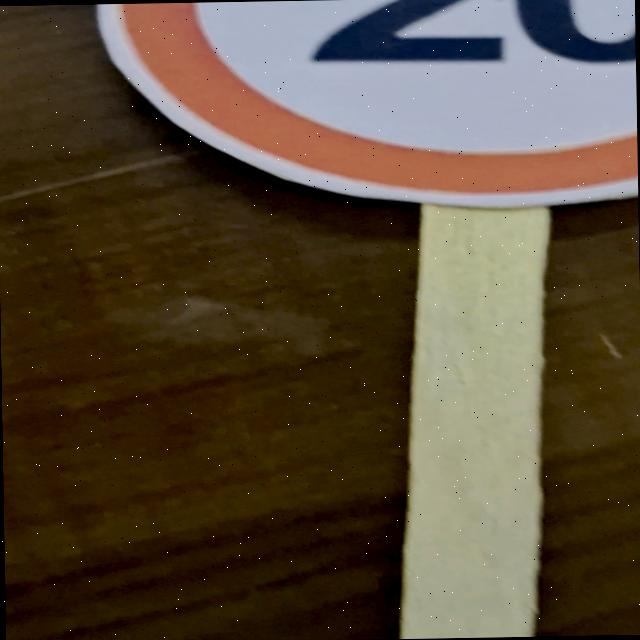Speed20: (75, 0, 637, 224)
